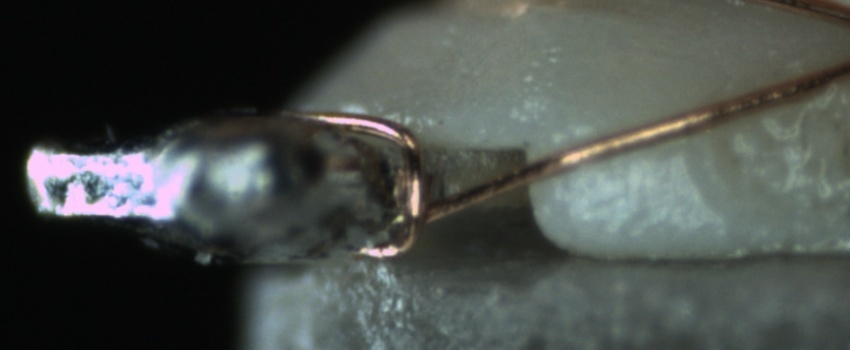TE: (294, 106, 432, 253)
